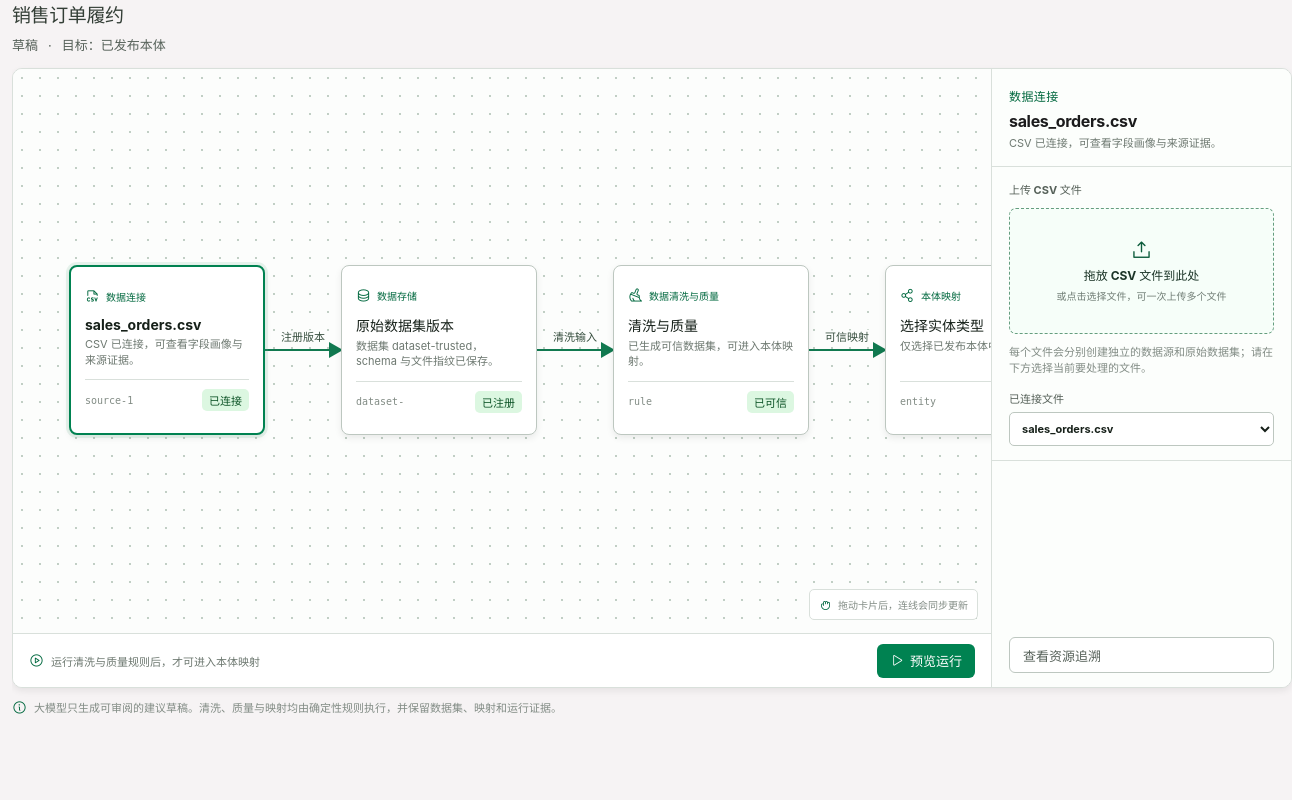
Test: automatically selects the best matching entity and permits mapping for an existing trusted dataset
Click the button "本体映射 选择实体类型 仅选择已发布本体中的实体类型。 entity 待映射".
click(983, 350)  # box [885, 265, 1081, 435]
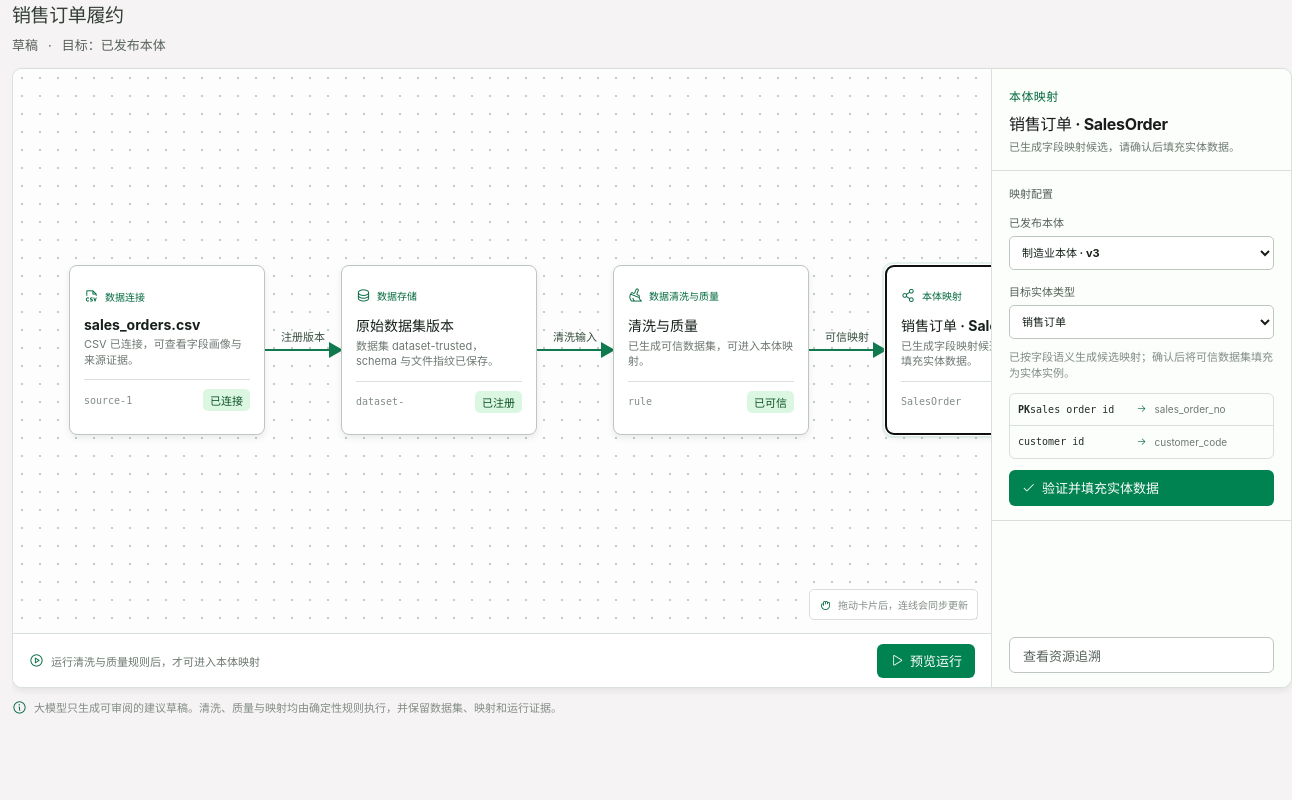
Now the dropdown labelled "目标实体类型" shows "销售订单", box [1009, 304, 1274, 338]
Now the button "验证并填充实体数据" is enabled, box [1009, 470, 1274, 506]
Now the text "sales_order_no" is shown, box [1154, 403, 1226, 415]
